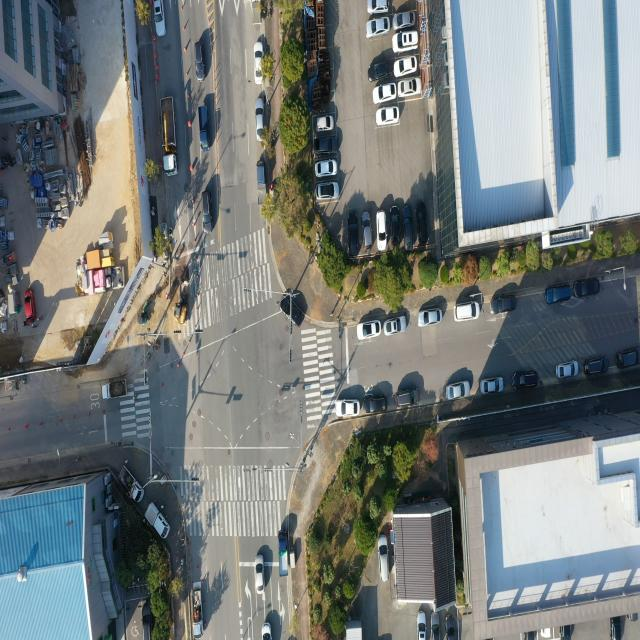car: (278, 292, 303, 328), (572, 274, 602, 302), (488, 290, 518, 314), (584, 353, 611, 378), (545, 282, 570, 307), (368, 58, 394, 82), (617, 345, 640, 372), (22, 284, 38, 322), (378, 534, 390, 584), (366, 15, 391, 37), (402, 202, 413, 252), (312, 135, 336, 156), (333, 400, 361, 418), (454, 303, 480, 322), (395, 57, 418, 78), (395, 31, 419, 51), (417, 198, 426, 251), (446, 381, 471, 400), (348, 212, 359, 254), (377, 106, 400, 126), (374, 84, 397, 104), (202, 188, 212, 234), (418, 309, 442, 328), (398, 79, 420, 99), (358, 320, 380, 340), (193, 38, 204, 78), (514, 372, 538, 390), (385, 316, 407, 335), (254, 554, 264, 595), (315, 161, 337, 179), (315, 182, 337, 200), (481, 378, 504, 395), (429, 608, 441, 640), (364, 318, 385, 336), (556, 360, 578, 377), (254, 97, 264, 134), (365, 396, 385, 414), (444, 613, 457, 640), (361, 212, 371, 247), (378, 211, 387, 249), (390, 206, 399, 244), (392, 11, 412, 28), (398, 393, 418, 410), (254, 43, 262, 85), (366, 0, 387, 14), (316, 115, 333, 132), (418, 612, 427, 640), (260, 623, 269, 640)
medium_truck: (161, 95, 178, 176)
small_truck: (116, 463, 142, 504), (142, 505, 170, 539), (189, 579, 204, 636), (276, 530, 289, 578), (104, 379, 128, 400), (152, 1, 165, 37), (256, 158, 266, 204), (198, 105, 208, 149)
